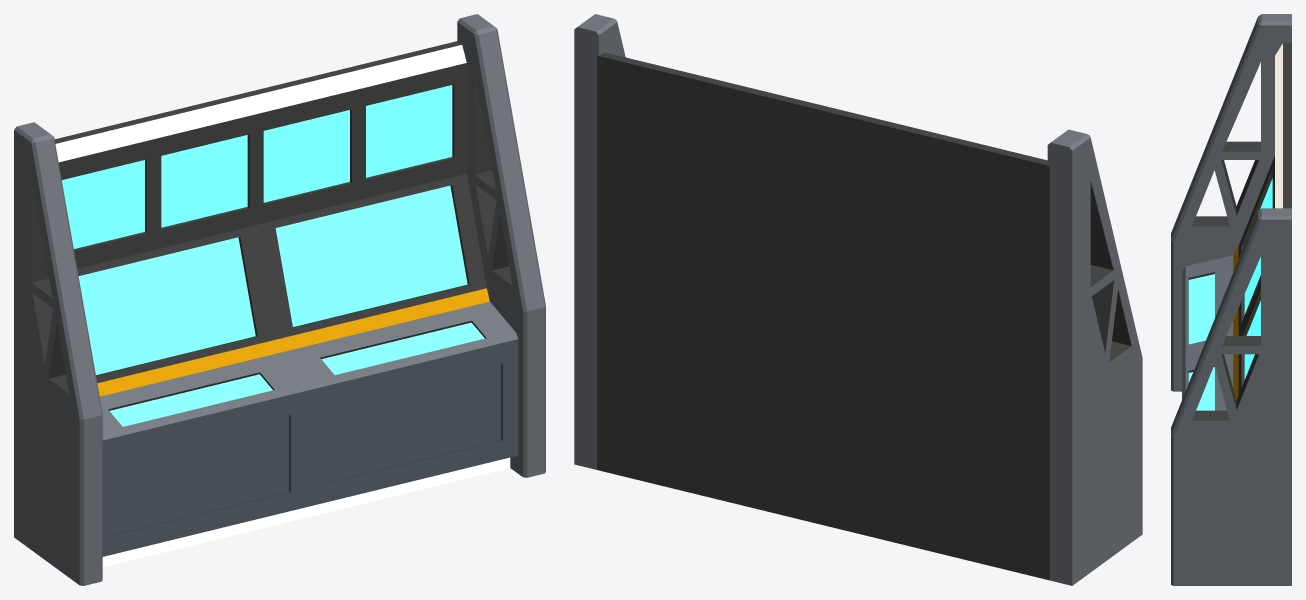
The model's file is wall_bank_double.glb.
The picture shows the model from 3 angles, left to right: view 1: azimuth 30°, elevation 25°; view 2: azimuth 150°, elevation 25°; view 3: azimuth 270°, elevation 25°; orthographic projection. The views are drawn at different scales.
Visible parts, largest first — view 1: wall_bank_double; view 2: wall_bank_double; view 3: wall_bank_double.
Part boxes in pixels (x1,y1,x2,y2): wall_bank_double: [14, 14, 545, 585]; wall_bank_double: [574, 14, 1142, 585]; wall_bank_double: [1171, 14, 1291, 585].
Size of the model in its own units: 2.64 by 2.22 by 0.66.
